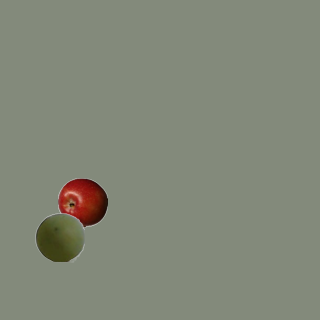Apple Braeburn: (57, 177, 107, 227)
Grape White 4: (34, 212, 84, 262)
